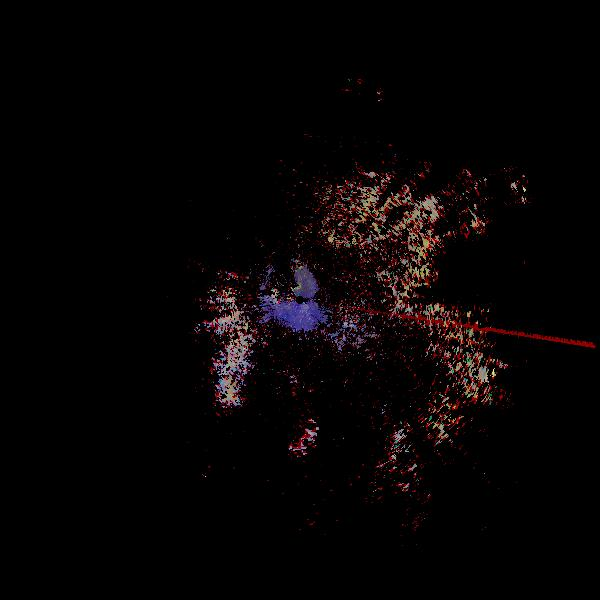roost: (261, 392, 327, 458)
